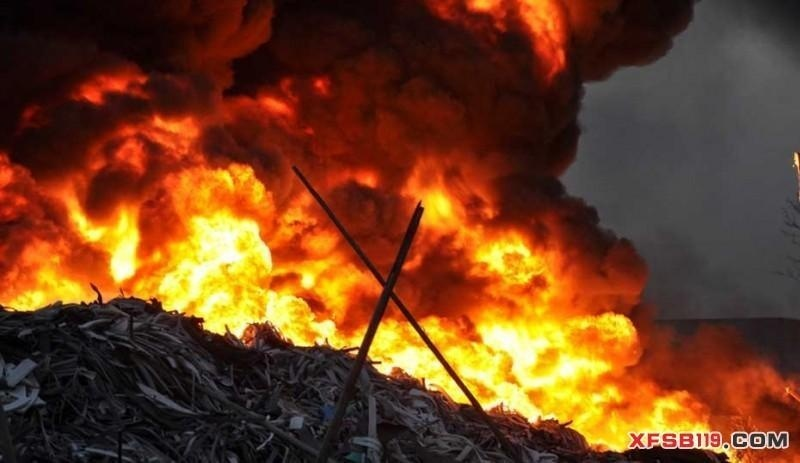fire: (29, 88, 574, 394)
